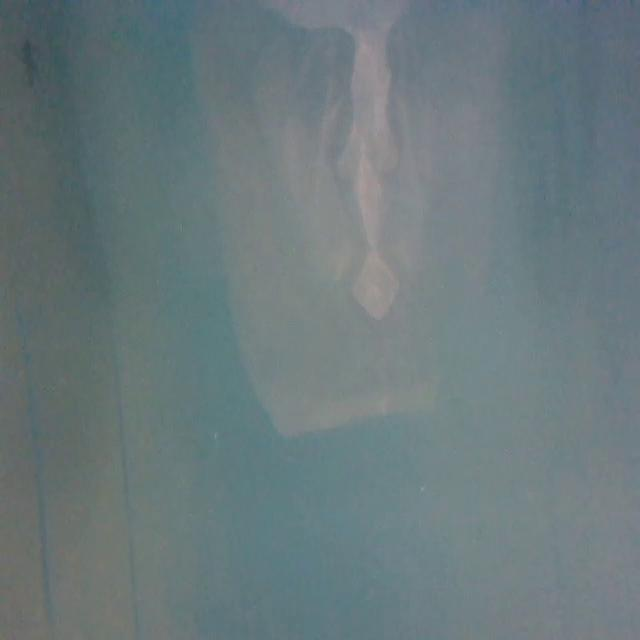plastic bags: (187, 5, 515, 435)
